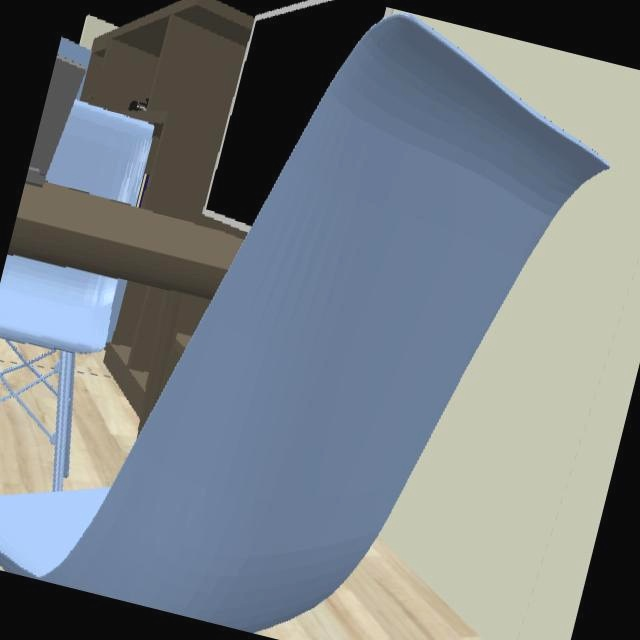bookshelf: (76, 0, 247, 217)
chair: (0, 14, 608, 634)
laptop: (25, 38, 91, 187)
monitor: (202, 0, 389, 233)
table: (6, 178, 240, 300)
